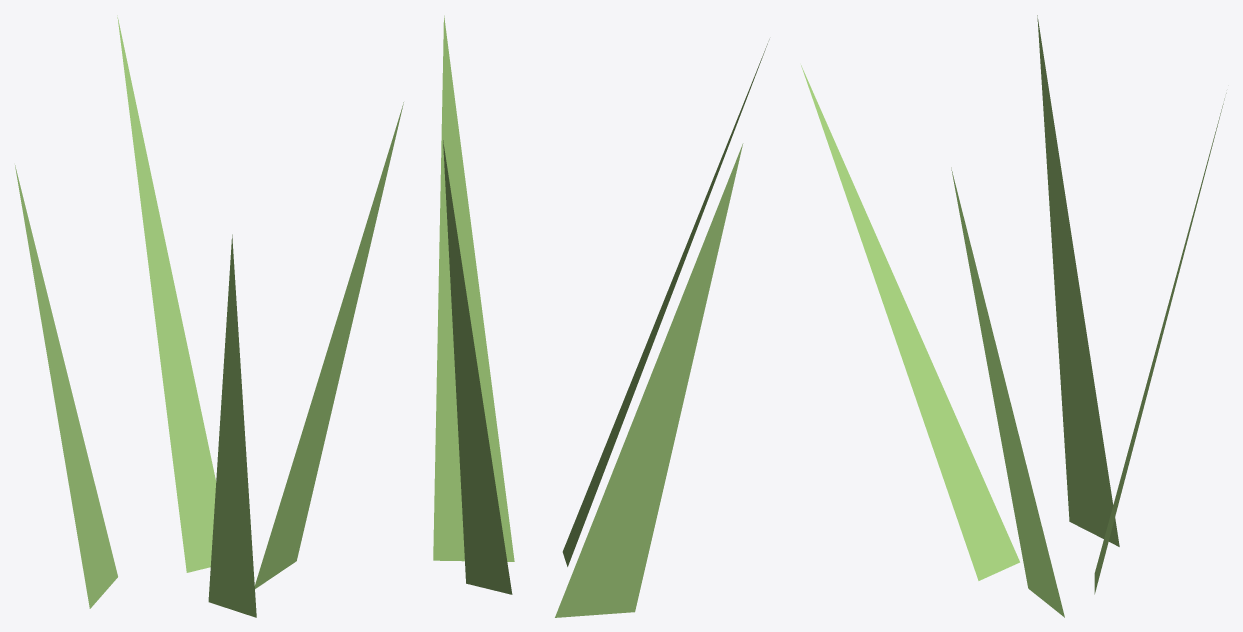
Rendered from Grass_d_OneS_03.fbx.
3 renders of one model, left to right at view 1: azimuth 30°, elevation 25°; view 2: azimuth 150°, elevation 25°; view 3: azimuth 270°, elevation 25°, orthographic. The views are drawn at different scales.
Visible parts, largest first — view 1: Grass_d_OneS_03; view 2: Grass_d_OneS_03; view 3: Grass_d_OneS_03.
Boxes of the visible parts, x1,y1,x2,y2 form: Grass_d_OneS_03: (15,15,403,617); Grass_d_OneS_03: (433,15,769,617); Grass_d_OneS_03: (801,15,1226,617).
Size of the model in its own units: 27.35 by 38.73 by 30.51.
